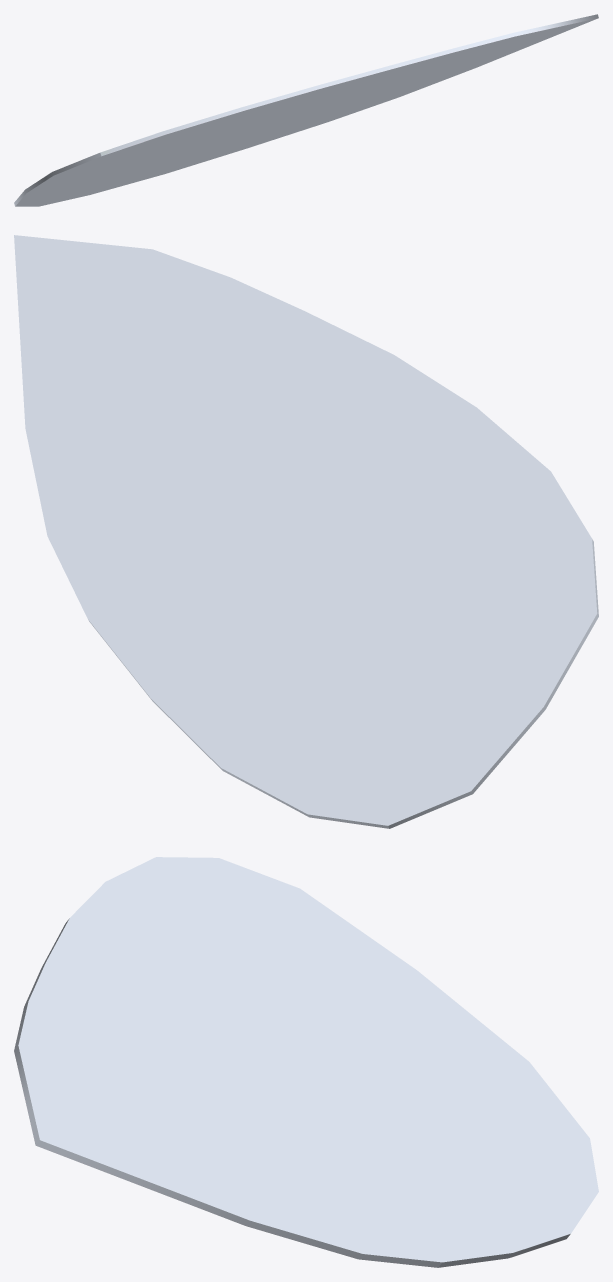
The model's file is wing.obj.
3 views of the same model, one above another, from view 1: azimuth 30°, elevation 25°; view 2: azimuth 150°, elevation 25°; view 3: azimuth 270°, elevation 25° (orthographic). The views are drawn at different scales.
Parts seen in each view (by area): view 1: polySurface112 pCube13; view 2: polySurface112 pCube13; view 3: polySurface112 pCube13.
Boxes of the visible parts, box(x1,y1,x2,y2) form: polySurface112 pCube13: box(14, 14, 598, 206); polySurface112 pCube13: box(14, 235, 598, 828); polySurface112 pCube13: box(14, 857, 598, 1267).
Bounding box in the file's own units: 1.71 × 0.733 × 0.999.
Materials: 1 (1 with a texture image).
